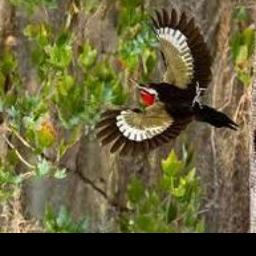Woodpecker: (90, 11, 239, 159)
